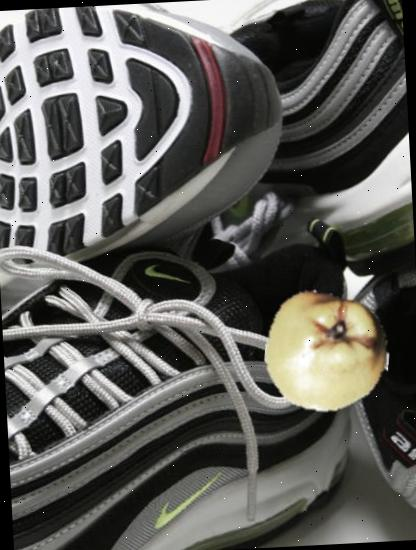Quince: (262, 286, 392, 416)
